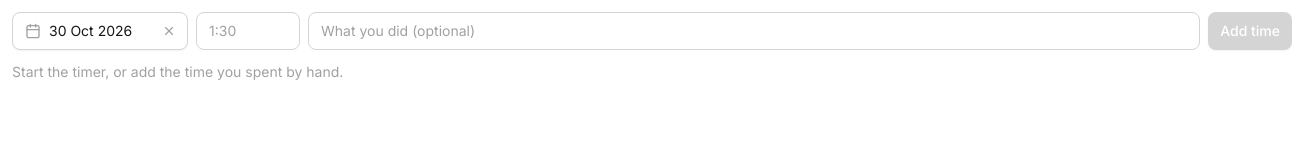
Test: TaskTime › sends nothing without a duration, and shows the fields the API refused
Submit the form, box 12,12 -> 1292,50
In the field with placeholder "1:30": (248,31) 196,12 -> 300,50, type "soon"
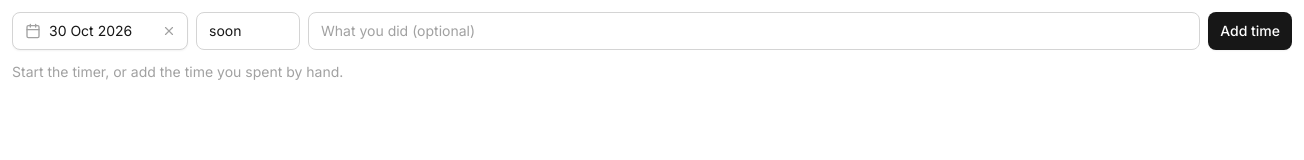
Submit the form, box 12,12 -> 1292,50
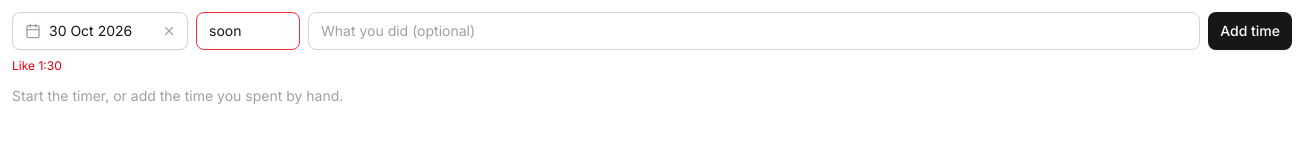
Check: the text "Like 1:30" is shown, box 12,58 -> 62,73
